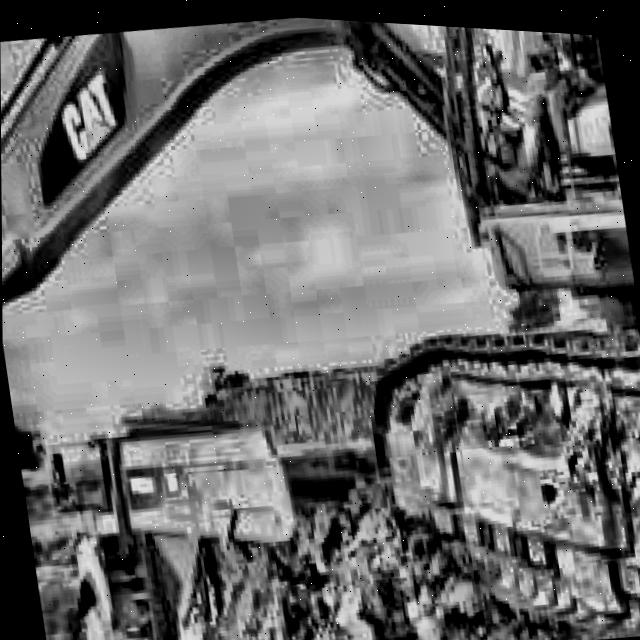dump_truck: (27, 364, 405, 640)
excavator: (0, 0, 640, 640)
